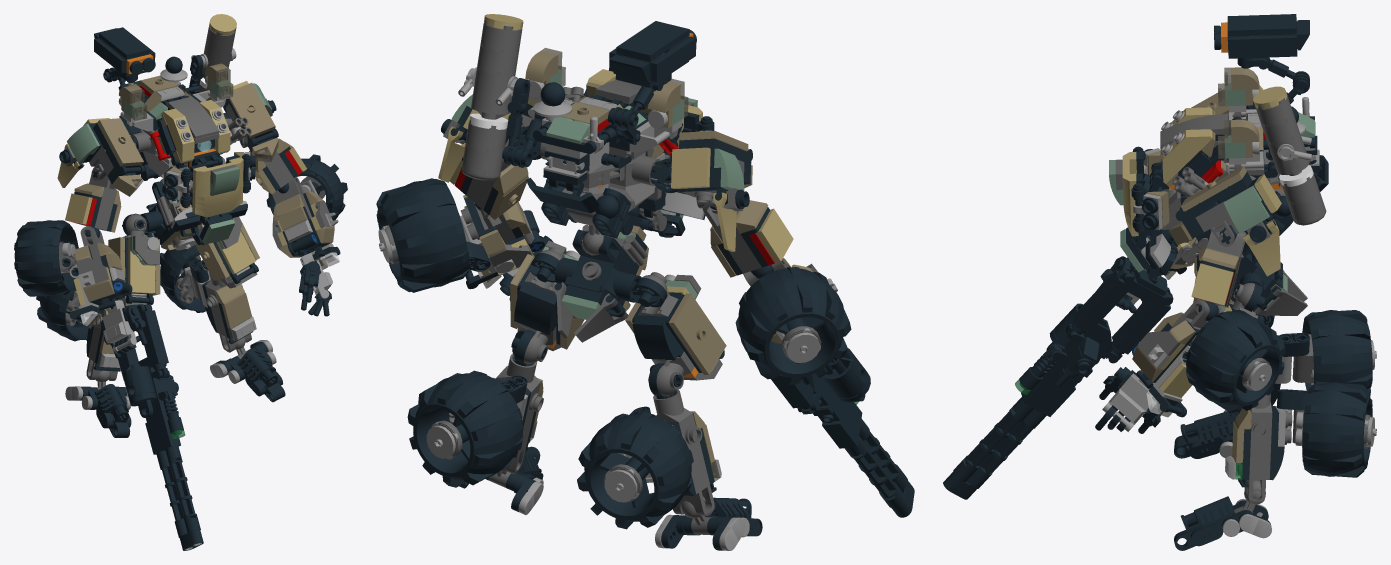
File: rv-6387-stormer-titan.dae
3 renders of one model, left to right at view 1: azimuth 30°, elevation 25°; view 2: azimuth 150°, elevation 25°; view 3: azimuth 270°, elevation 25°, orthographic. The views are drawn at different scales.
Bounding box in the file's own units: 551 × 504 × 656.
